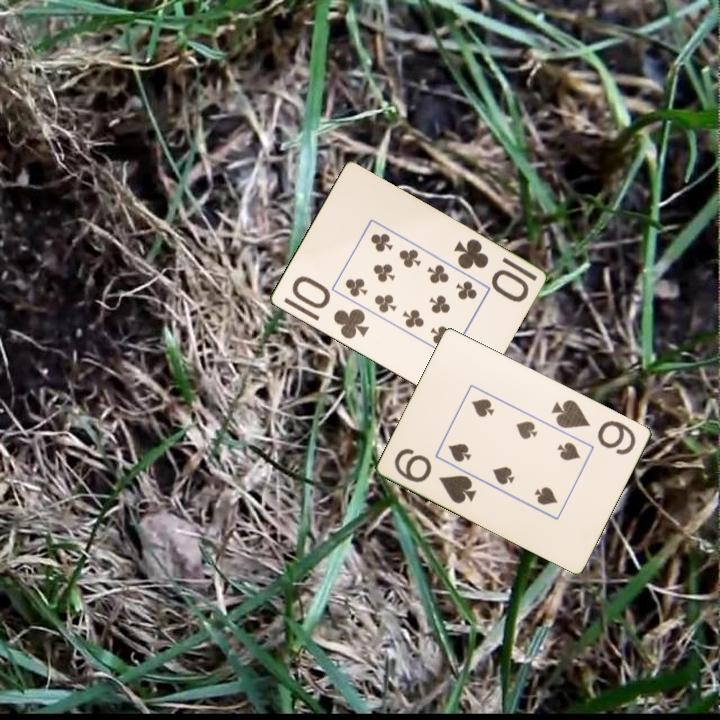10c: (288, 272, 372, 342), (449, 235, 532, 304)
6s: (548, 396, 639, 458), (391, 445, 480, 507)
